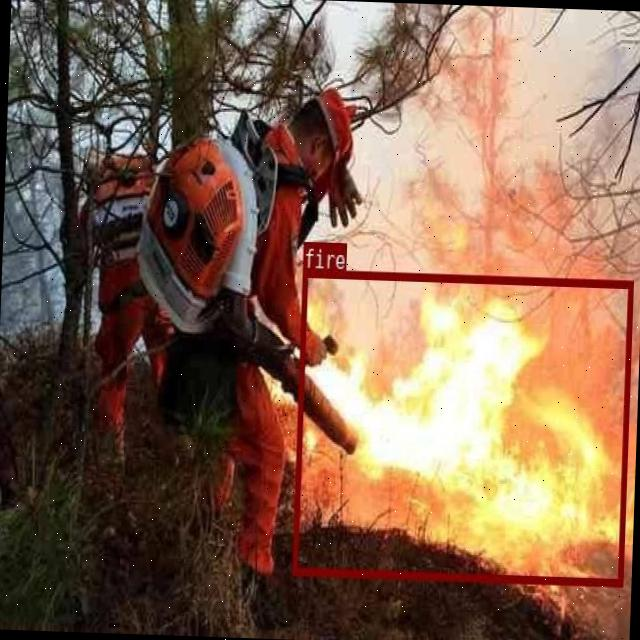fire: (292, 268, 632, 584)
